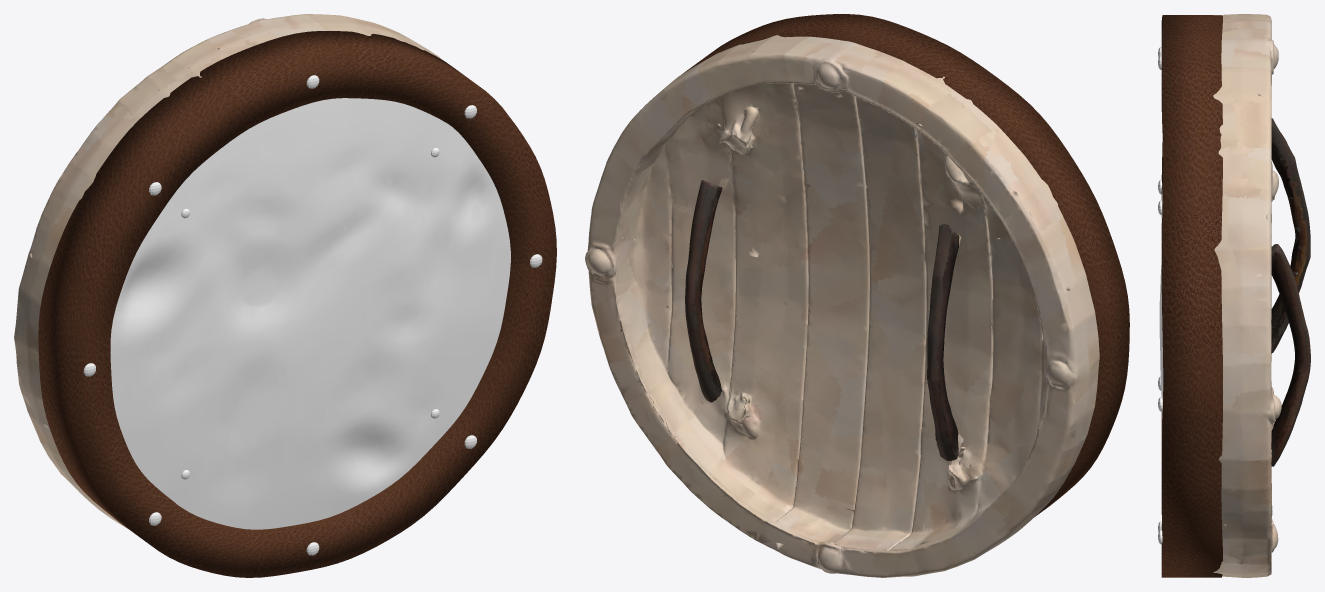
Rendered from escudo_hierro_v015_PBR2K_WEBP_v022.glb.
The picture shows the model from 3 angles, left to right: view 1: azimuth 30°, elevation 25°; view 2: azimuth 150°, elevation 25°; view 3: azimuth 270°, elevation 25°; orthographic projection.
Visible parts, largest first — view 1: V018_EXPORT_V015_Solid_Forged_Iron_Sheet_V175, V018_EXPORT_V015_Leather_Wrapped_Hoop_V020_PBR, V018_EXPORT_Mesh_0; view 2: V018_EXPORT_Mesh_0, V018_EXPORT_V015_Leather_Wrapped_Hoop_V020_PBR; view 3: V018_EXPORT_Mesh_0, V018_EXPORT_V015_Leather_Wrapped_Hoop_V020_PBR, V018_EXPORT_V015_Solid_Forged_Iron_Sheet_V175.
Part boxes in pixels (x1,y1,x2,y2): V018_EXPORT_V015_Solid_Forged_Iron_Sheet_V175: [83, 75, 542, 555]; V018_EXPORT_V015_Leather_Wrapped_Hoop_V020_PBR: [38, 31, 556, 577]; V018_EXPORT_Mesh_0: [14, 14, 442, 528]; V018_EXPORT_Mesh_0: [585, 35, 1099, 577]; V018_EXPORT_V015_Leather_Wrapped_Hoop_V020_PBR: [681, 14, 1129, 517]; V018_EXPORT_Mesh_0: [1213, 14, 1310, 577]; V018_EXPORT_V015_Leather_Wrapped_Hoop_V020_PBR: [1161, 15, 1222, 577]; V018_EXPORT_V015_Solid_Forged_Iron_Sheet_V175: [1158, 47, 1163, 544].
Size of the model in its own units: 0.6599 by 0.66 by 0.1787.
4 materials, 3 textured.
